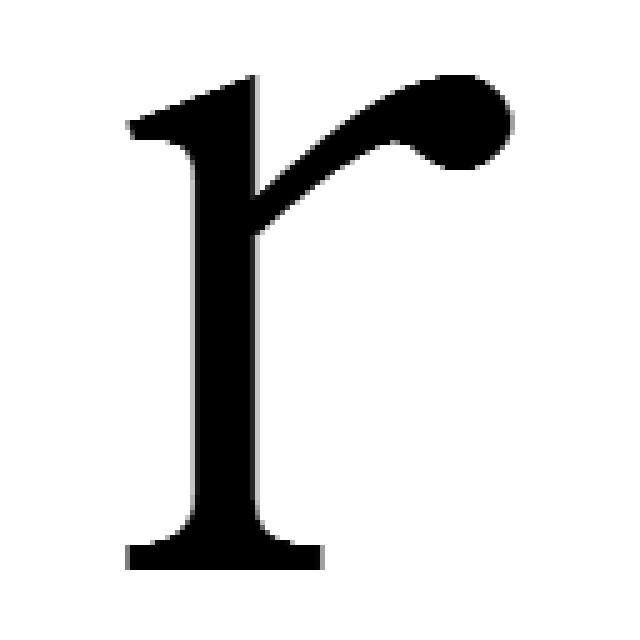R: (110, 60, 520, 575)
